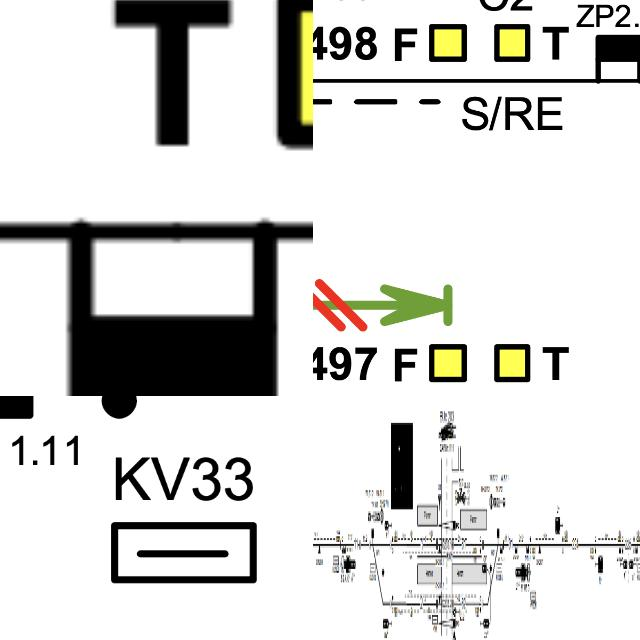mainsignal: (382, 618, 392, 631), (480, 617, 489, 628)
radzaehler: (49, 209, 302, 396), (593, 31, 640, 89), (0, 396, 48, 433), (500, 543, 503, 556), (635, 544, 638, 555), (526, 544, 529, 555), (343, 544, 346, 555), (515, 543, 517, 553), (619, 545, 621, 554)
trackjoint: (452, 540, 455, 552), (481, 598, 484, 609), (368, 542, 371, 550), (482, 540, 484, 552), (389, 598, 391, 609), (436, 600, 438, 611), (452, 598, 454, 609), (359, 541, 361, 551), (389, 541, 391, 551), (436, 540, 438, 548)
tracknumber: (570, 534, 579, 554), (624, 535, 632, 553), (508, 536, 513, 552), (420, 535, 424, 553), (461, 537, 466, 551), (461, 597, 466, 610), (354, 536, 358, 552), (420, 593, 423, 614)
weiche: (496, 527, 500, 546), (371, 528, 375, 545)
